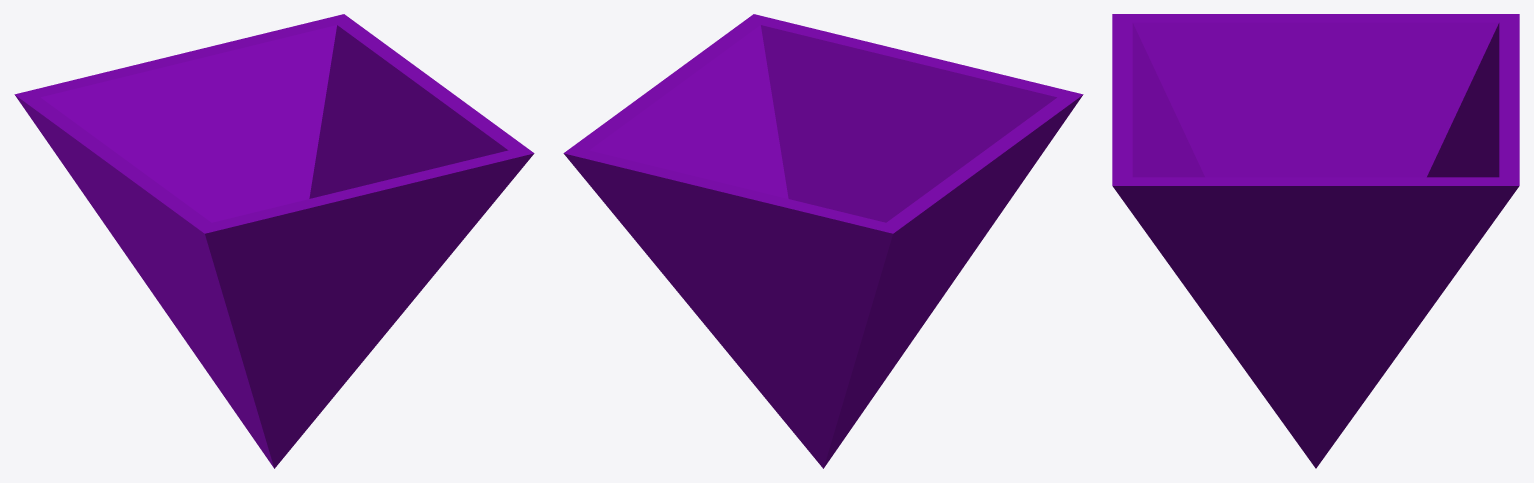
The model's file is LumaCrystal.glb.
The picture shows the model from 3 angles, left to right: view 1: azimuth 30°, elevation 25°; view 2: azimuth 150°, elevation 25°; view 3: azimuth 270°, elevation 25°; orthographic projection. The views are drawn at different scales.
Visible parts, largest first — view 1: Cube; view 2: Cube; view 3: Cube.
Boxes of the visible parts, x1,y1,x2,y2 form: Cube: [14, 14, 534, 468]; Cube: [563, 14, 1083, 468]; Cube: [1112, 14, 1519, 468].
Bounding box in the file's own units: 2 × 2 × 2.
